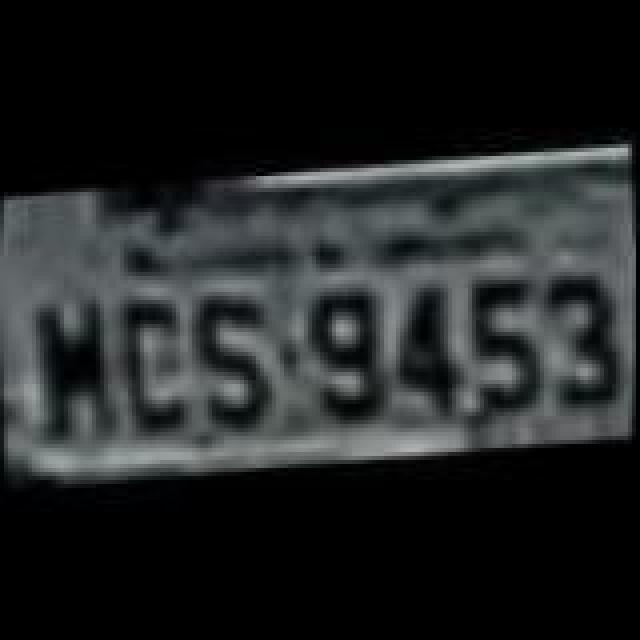3: (536, 268, 632, 412)
4: (378, 272, 474, 428)
5: (458, 266, 542, 414)
9: (298, 278, 386, 418)
C: (110, 286, 198, 434)
M: (30, 290, 118, 446)
S: (188, 280, 280, 432)
